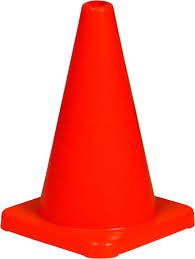cones: (1, 2, 193, 259)
